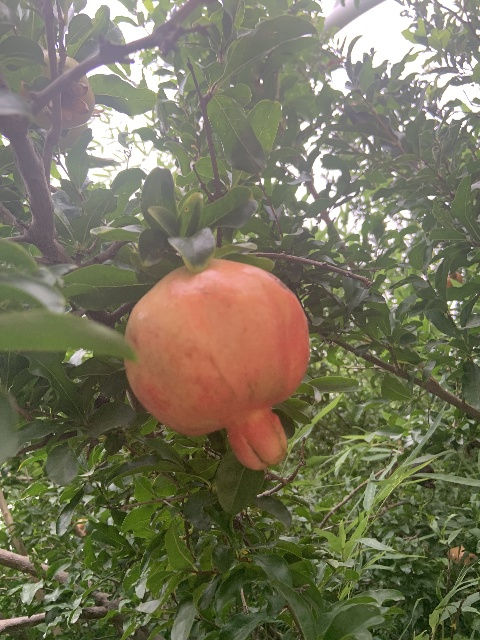ripe: (123, 260, 309, 471)
